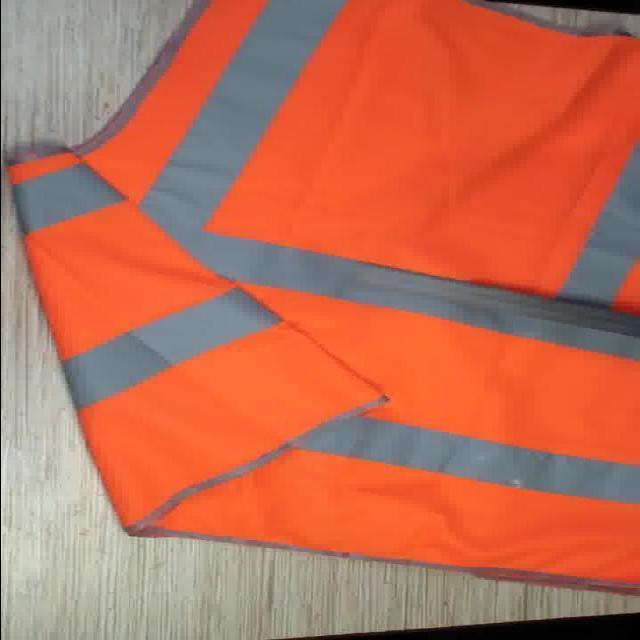vest: (0, 0, 640, 598)
